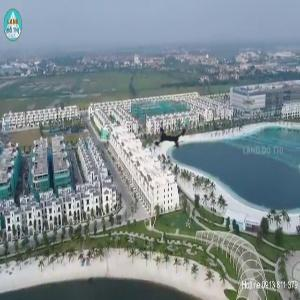drone: (136, 101, 208, 173)
